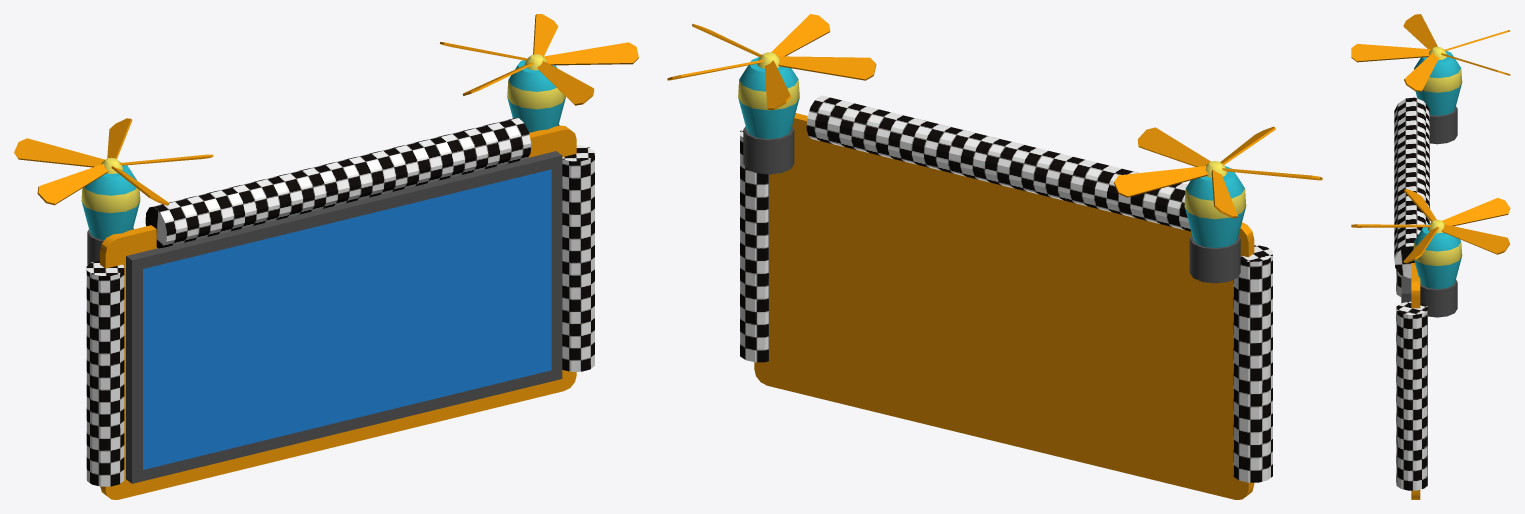
File: board.fbx
3 renders of one model, left to right at view 1: azimuth 30°, elevation 25°; view 2: azimuth 150°, elevation 25°; view 3: azimuth 270°, elevation 25°, orthographic. The views are drawn at different scales.
Parts seen in each view (by area): view 1: board, rotate_02, rotate_01; view 2: board, rotate_02, rotate_01; view 3: board, rotate_01, rotate_02.
Part boxes in pixels (x1,y1,x2,y2): board: (86,118,594,499); rotate_02: (14,118,213,239); rotate_01: (440,14,638,132); board: (740,95,1272,499); rotate_02: (1114,126,1322,247); rotate_01: (667,14,876,139); board: (1394,97,1457,499); rotate_01: (1351,189,1510,288); rotate_02: (1351,14,1510,115).
Size of the model in its own units: 1836 by 960 by 507.
2 materials, 2 textured.
